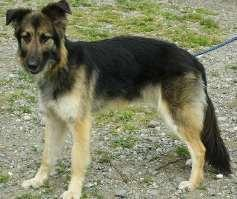German_shepherd: (5, 0, 232, 198)
